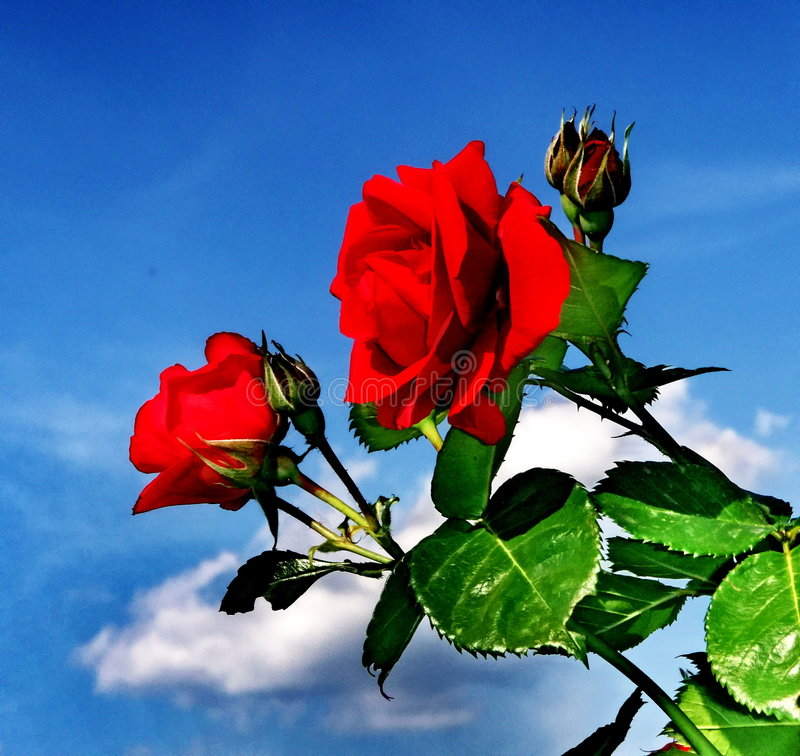RedRose: (316, 136, 521, 391), (128, 317, 345, 543)
